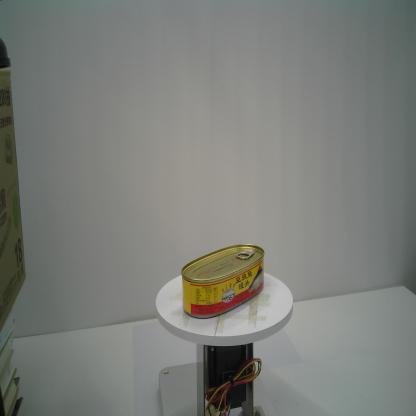Canned Food: (180, 242, 266, 321)
